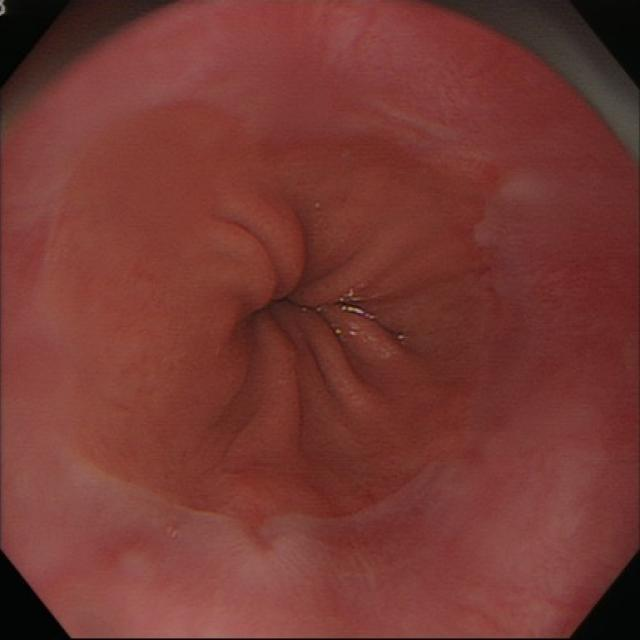I: (183, 170, 414, 445)
U: (335, 292, 373, 320)
